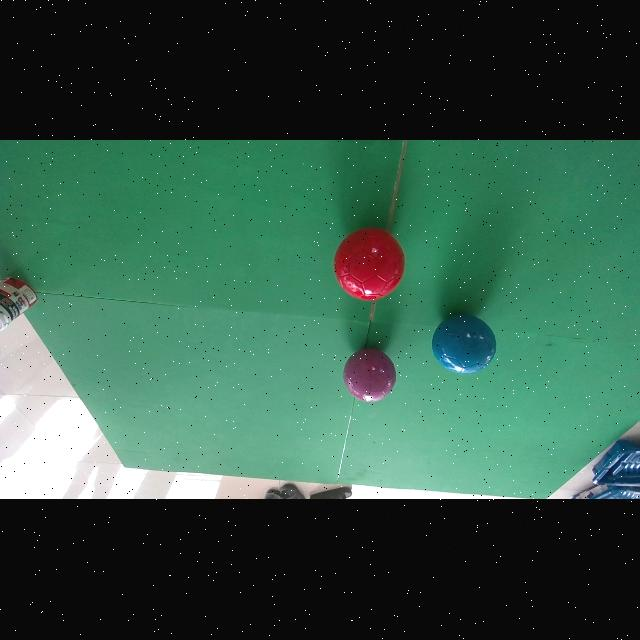B: (433, 315, 496, 375)
P: (343, 349, 396, 403)
R: (334, 229, 405, 301)
